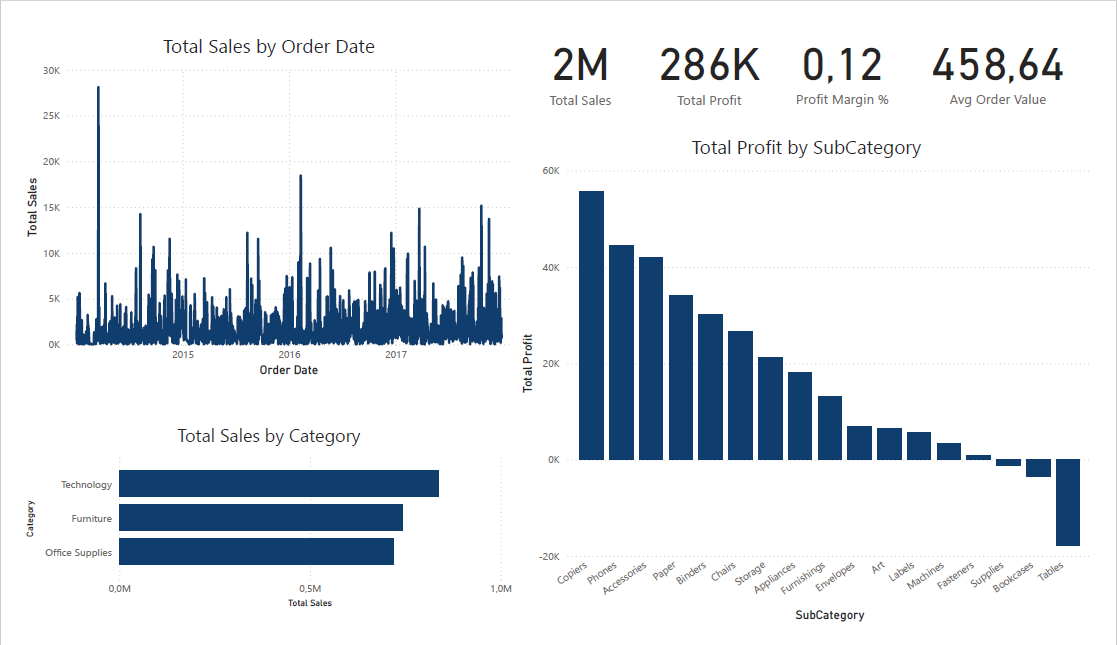

What the dashboard file says about the page in this screenshot:
{"tool":"powerbi","page":{"name":"SalesOverview","canvas":[1280,720],"ordinal":0},"visuals":[{"type":"card","fields":{"Values":["DateTable .Total Sales"]},"box":[591.1,0,149.7,110],"z":0},{"type":"card","fields":{"Values":["DateTable .Total Profit"]},"box":[740.8,0,157.3,110],"z":1000},{"type":"card","fields":{"Values":["DateTable .Profit Margin %"]},"box":[898.6,0,158.4,109.4],"z":2000},{"type":"card","fields":{"Values":["DateTable .Avg Order Value"]},"box":[1057,0,211.7,109.4],"z":3000},{"type":"lineChart","fields":{"Category":["Orders.Order Date"],"Y":["DateTable .Total Sales"]},"box":[0,14.4,590.4,413.3],"z":4000},{"type":"barChart","fields":{"Y":["DateTable .Total Sales"],"Category":["Orders.Category"]},"box":[0,478.1,590.4,224.6],"z":5000},{"type":"columnChart","fields":{"Category":["Orders.SubCategory"],"Y":["Orders.Profit Margin %"]},"box":[590.4,133.9,689.8,586.1],"z":6000}]}

Visuals, with their boxes in screenshot pixels (x1, y1, x2, y2), scaled from the page's 1280x720 canvas onto the 1117x645 screenshot:
card - DateTable .Total Sales: detection(516, 0, 646, 99)
card - DateTable .Total Profit: detection(646, 0, 784, 99)
card - DateTable .Profit Margin %: detection(784, 0, 922, 98)
card - DateTable .Avg Order Value: detection(922, 0, 1107, 98)
lineChart - Orders.Order Date x DateTable .Total Sales: detection(0, 13, 515, 383)
barChart - DateTable .Total Sales x Orders.Category: detection(0, 428, 515, 630)
columnChart - Orders.SubCategory x Orders.Profit Margin %: detection(515, 120, 1116, 644)
